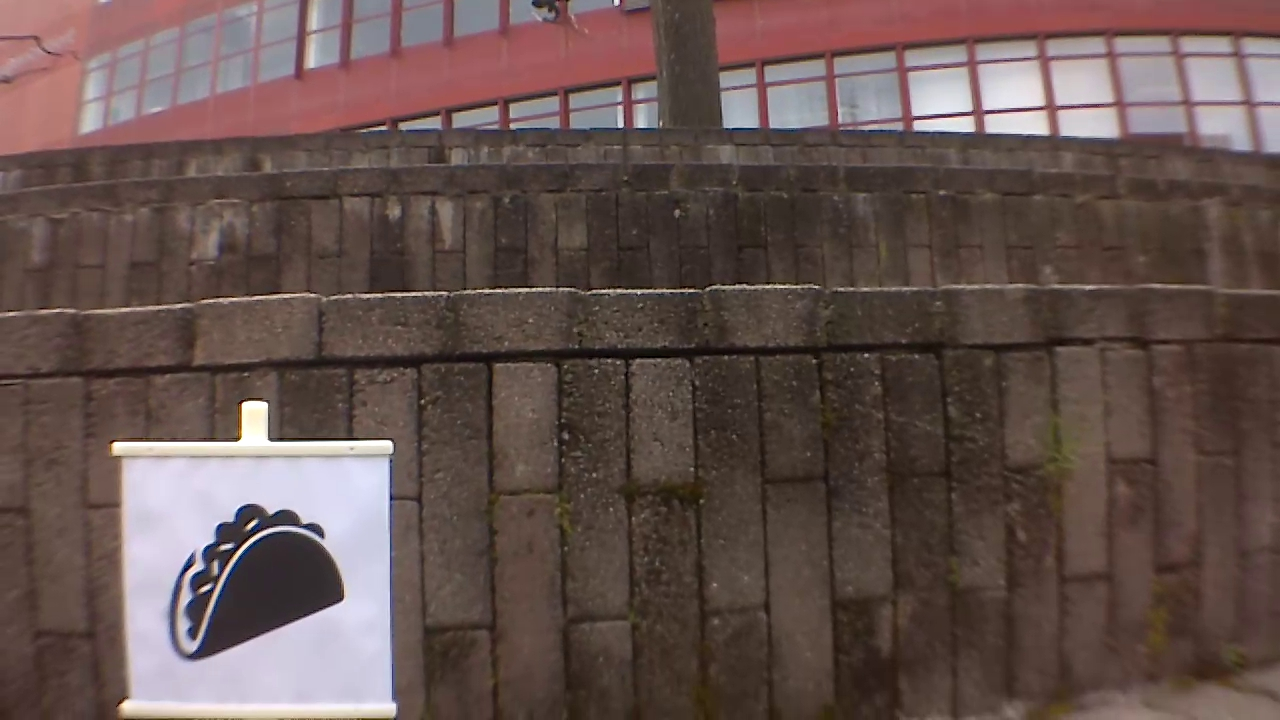taco: (161, 496, 350, 667)
